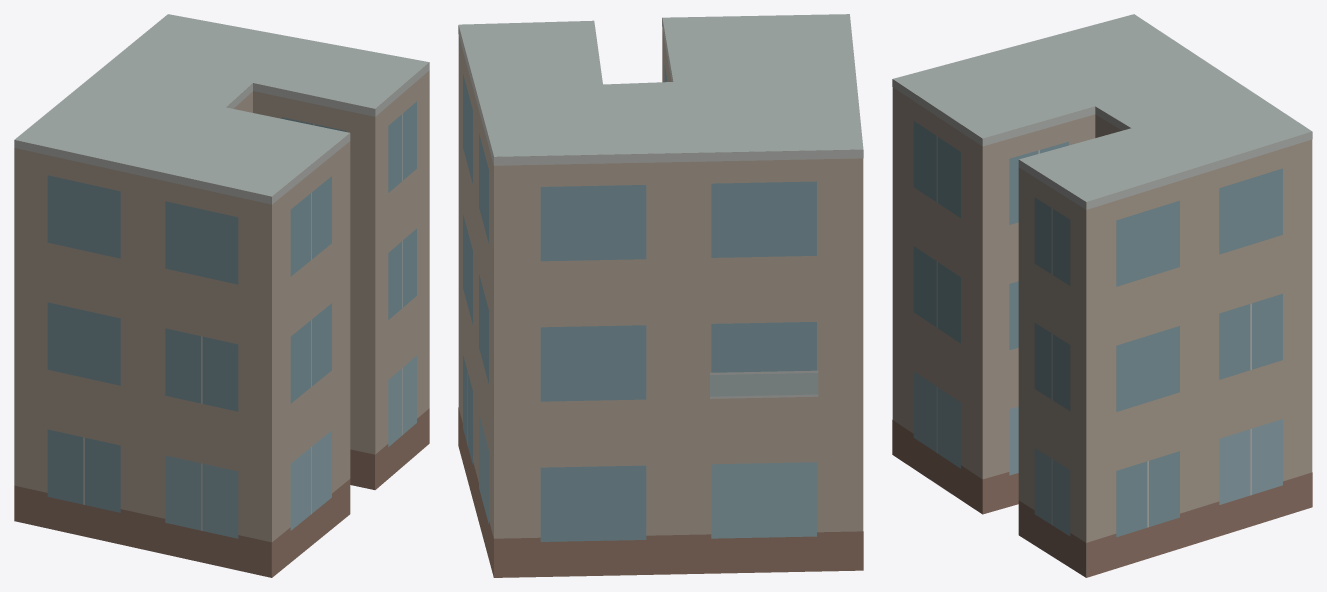
File: survey-upis-32960247.glb
3 renders of one model, left to right at view 1: azimuth 30°, elevation 25°; view 2: azimuth 150°, elevation 25°; view 3: azimuth 270°, elevation 25°, orthographic. The views are drawn at different scales.
Parts seen in each view (by area): view 1: survey-upis-32960247.tmp; view 2: survey-upis-32960247.tmp; view 3: survey-upis-32960247.tmp.
Part boxes in pixels (x1,y1,x2,y2): survey-upis-32960247.tmp: [14, 14, 429, 577]; survey-upis-32960247.tmp: [458, 14, 863, 577]; survey-upis-32960247.tmp: [892, 14, 1312, 577].
Size of the model in its own units: 12.46 by 11.6 by 11.76.
